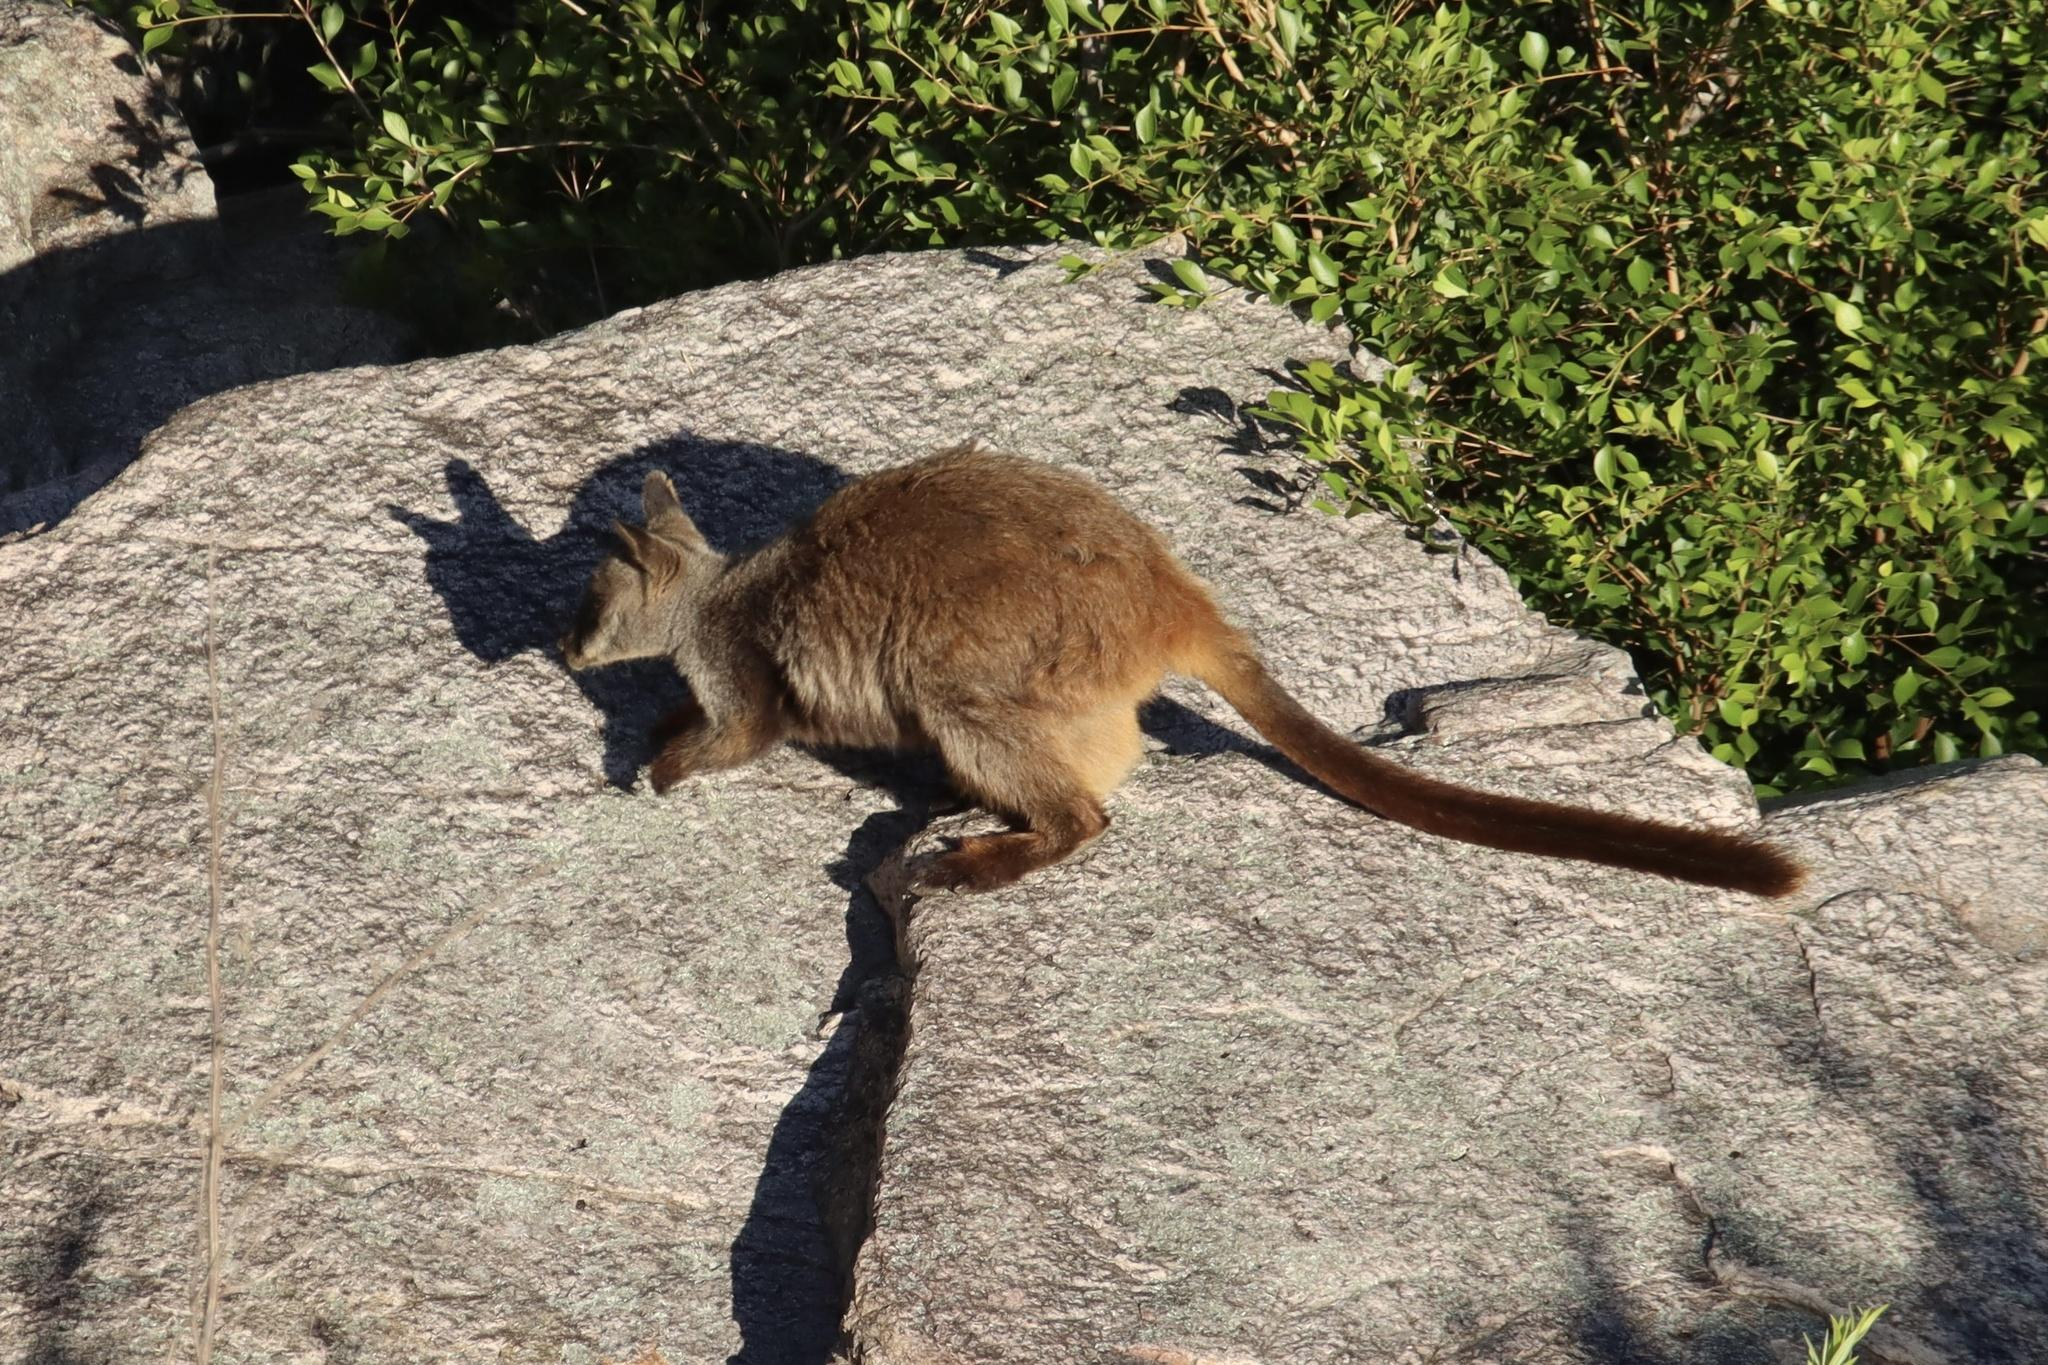Brush-tailed rock-wallaby: (550, 446, 1810, 928)
